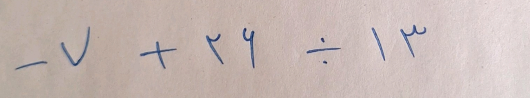character: (58, 25, 94, 70), (138, 39, 179, 73), (305, 36, 343, 68), (398, 25, 430, 62), (203, 30, 227, 68), (241, 26, 260, 73), (368, 24, 389, 64), (12, 58, 50, 73)
